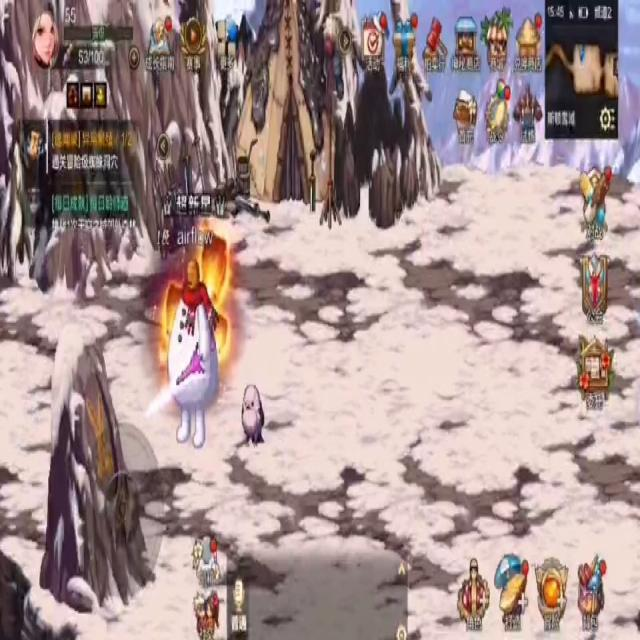player: (170, 248, 212, 454)
